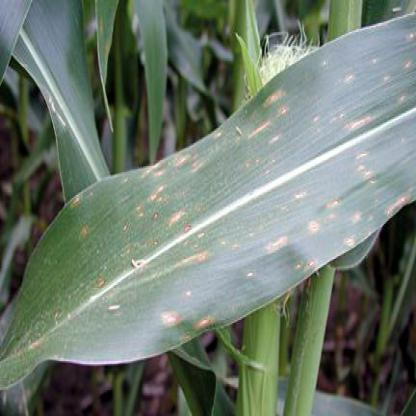Corn Gray leaf spot: (1, 8, 415, 402)
